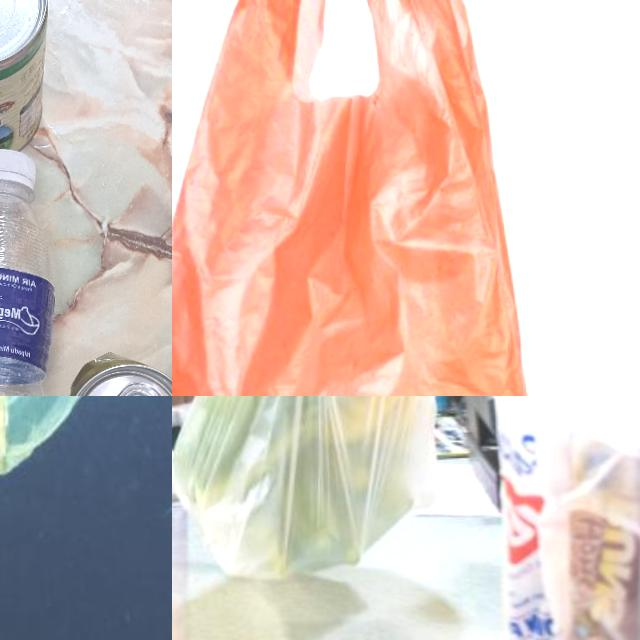aba de lata: (107, 382, 163, 396)
garrafa plástica: (0, 146, 59, 396)
lata: (0, 0, 49, 164)
sacola plástica: (172, 0, 559, 396), (172, 396, 435, 578), (469, 396, 640, 640), (0, 396, 172, 577)
tampa plástica: (0, 149, 39, 192)
